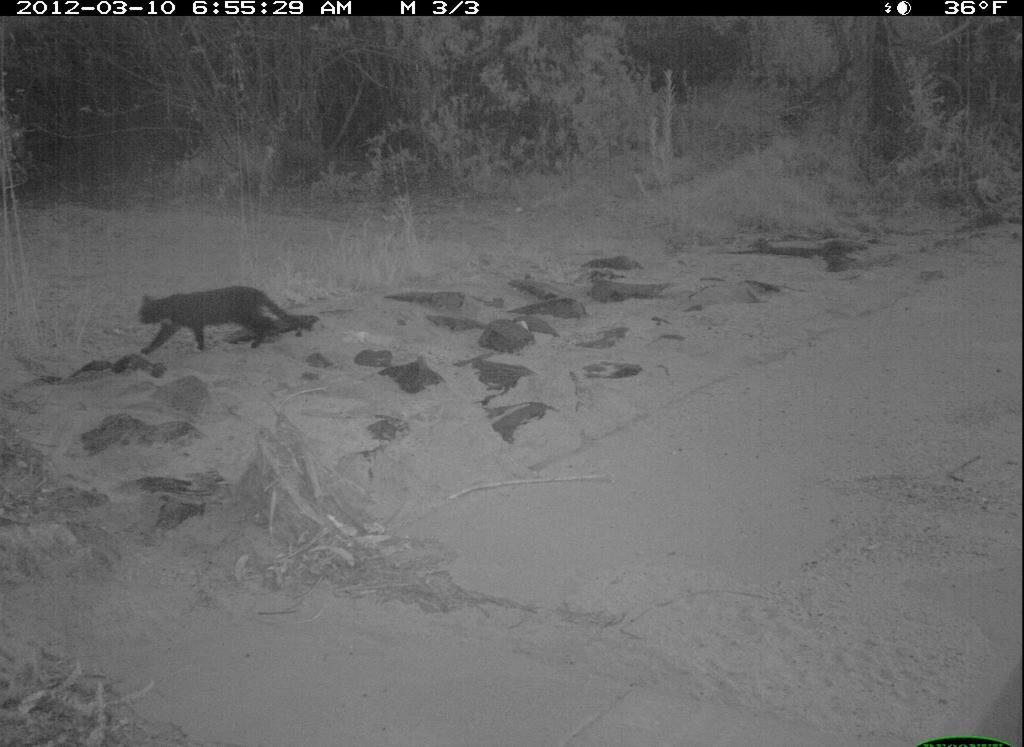cat: (137, 283, 316, 365)
